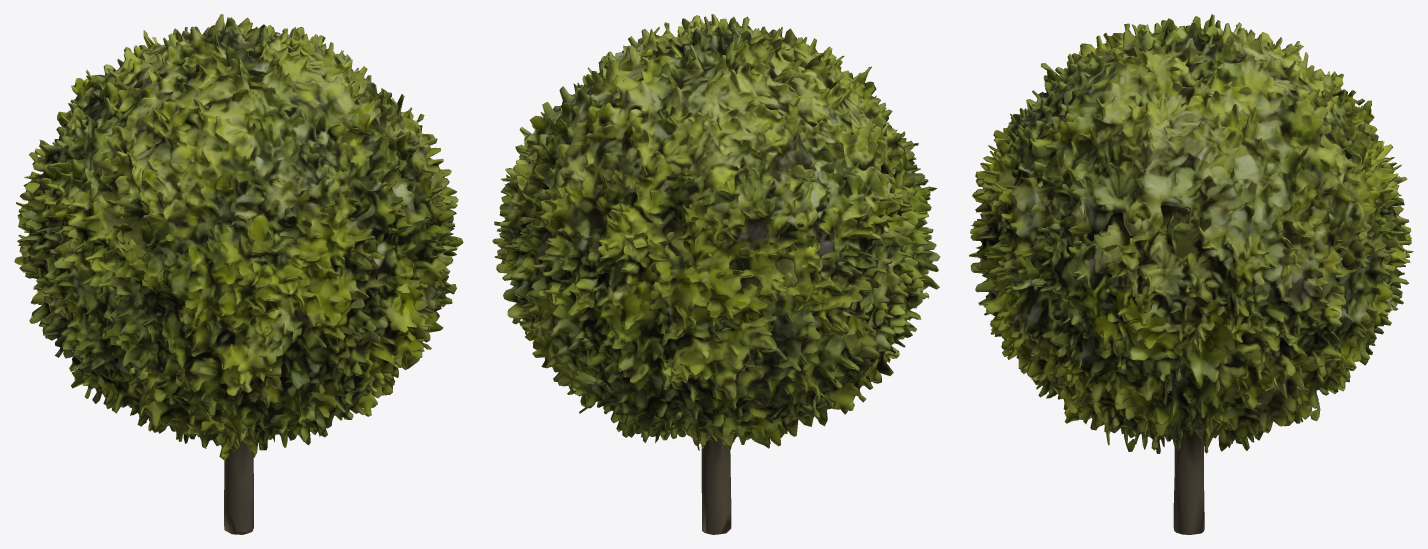
File: nature-bush-topiary-ball.glb
3 views of the same model, side by side, from view 1: azimuth 30°, elevation 25°; view 2: azimuth 150°, elevation 25°; view 3: azimuth 270°, elevation 25° (orthographic).
Visible parts, largest first — view 1: tripo_node_3d94fd6d-ce9e-4cb6-8308-2797697e0042; view 2: tripo_node_3d94fd6d-ce9e-4cb6-8308-2797697e0042; view 3: tripo_node_3d94fd6d-ce9e-4cb6-8308-2797697e0042.
Part boxes in pixels (x1=…): tripo_node_3d94fd6d-ce9e-4cb6-8308-2797697e0042: x1=14, y1=14, x2=463, y2=534; tripo_node_3d94fd6d-ce9e-4cb6-8308-2797697e0042: x1=492, y1=14, x2=940, y2=534; tripo_node_3d94fd6d-ce9e-4cb6-8308-2797697e0042: x1=969, y1=14, x2=1413, y2=534.
Size of the model in its own units: 1.2 by 1.5 by 1.21.
1 material, 1 textured.
